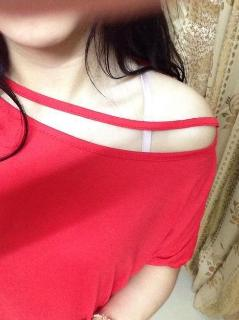short sleeve dress: (0, 72, 220, 319)
